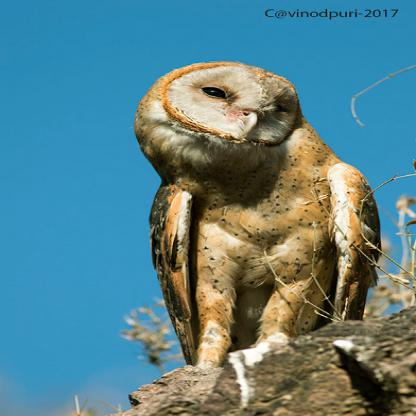Burung: (133, 62, 382, 378)
